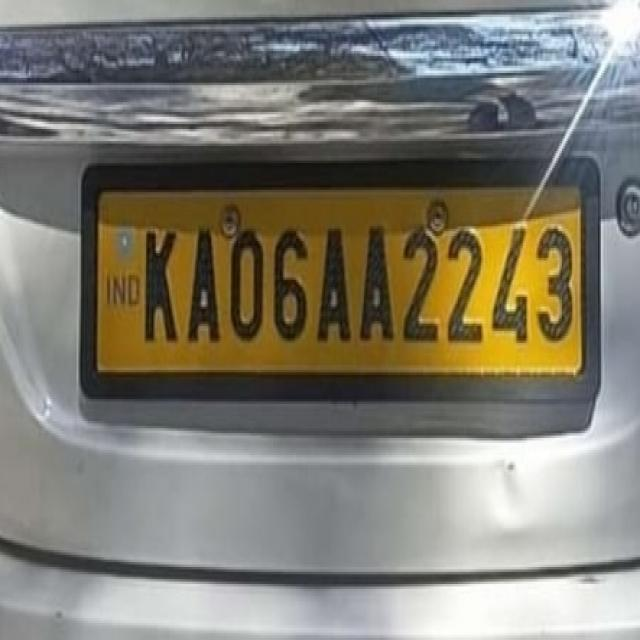0: (229, 224, 266, 348)
3: (533, 222, 576, 350)
4: (492, 216, 531, 353)
6: (271, 222, 310, 348)
A: (183, 207, 223, 356), (360, 213, 400, 354), (314, 212, 354, 350)
K: (136, 210, 184, 368)
